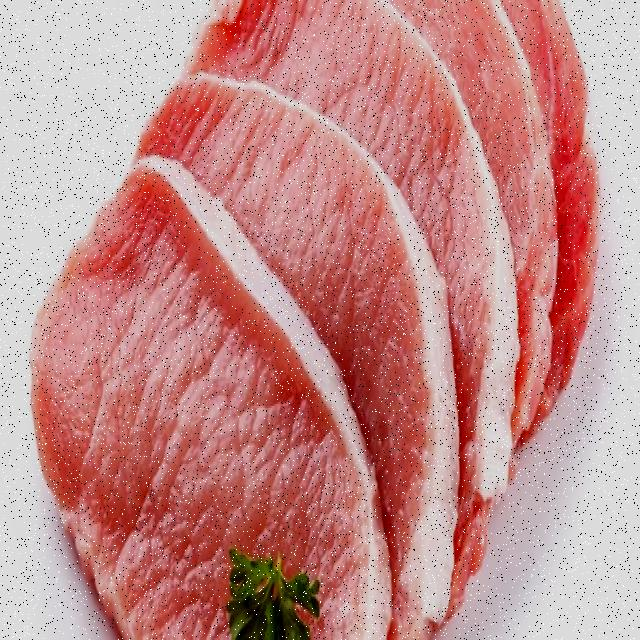Pork: (24, 51, 563, 595)
